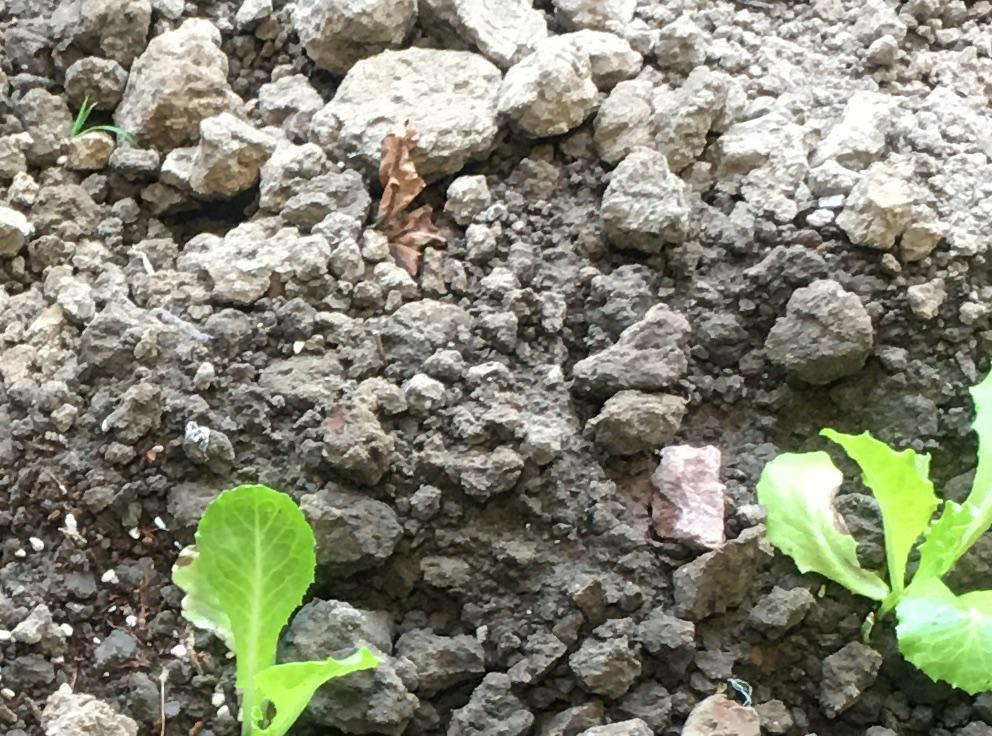block: (307, 46, 503, 172), (105, 16, 244, 152), (502, 23, 645, 138)
